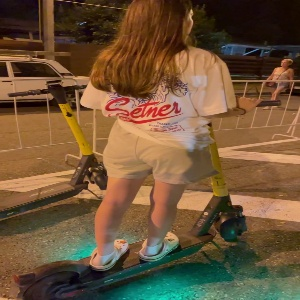human on a scooter: (9, 1, 284, 300)
